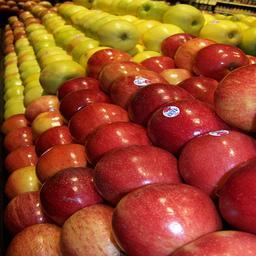apple: (112, 182, 221, 253), (177, 129, 255, 197), (92, 145, 183, 199), (148, 101, 226, 149), (41, 167, 109, 219), (60, 204, 122, 255), (213, 62, 256, 134), (85, 120, 150, 160), (129, 83, 192, 122), (68, 102, 129, 137), (193, 43, 250, 78), (5, 222, 63, 255), (35, 144, 92, 177), (109, 71, 164, 103), (5, 191, 49, 224), (61, 89, 110, 116), (86, 48, 130, 77), (4, 164, 41, 198), (157, 32, 196, 59), (24, 94, 59, 123)
